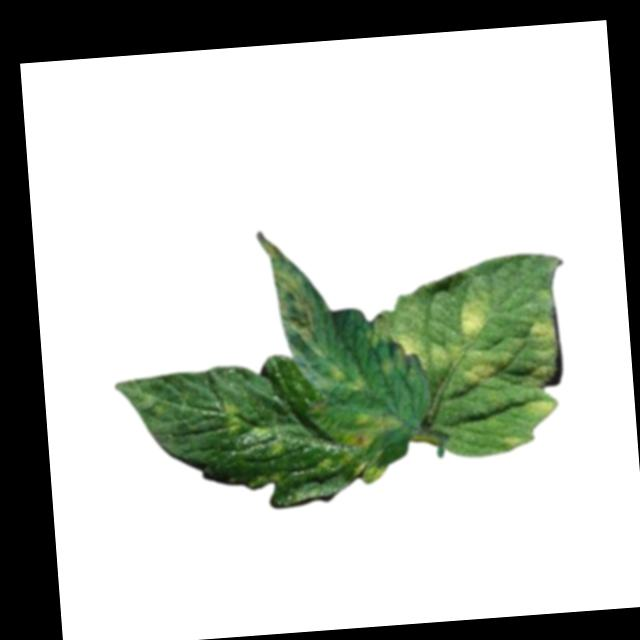Leaf_Mold: (340, 407, 404, 449), (396, 330, 451, 376), (457, 289, 498, 347), (458, 347, 510, 387), (349, 451, 389, 487), (331, 362, 370, 394), (524, 312, 558, 348), (522, 393, 557, 422), (221, 399, 244, 435)
